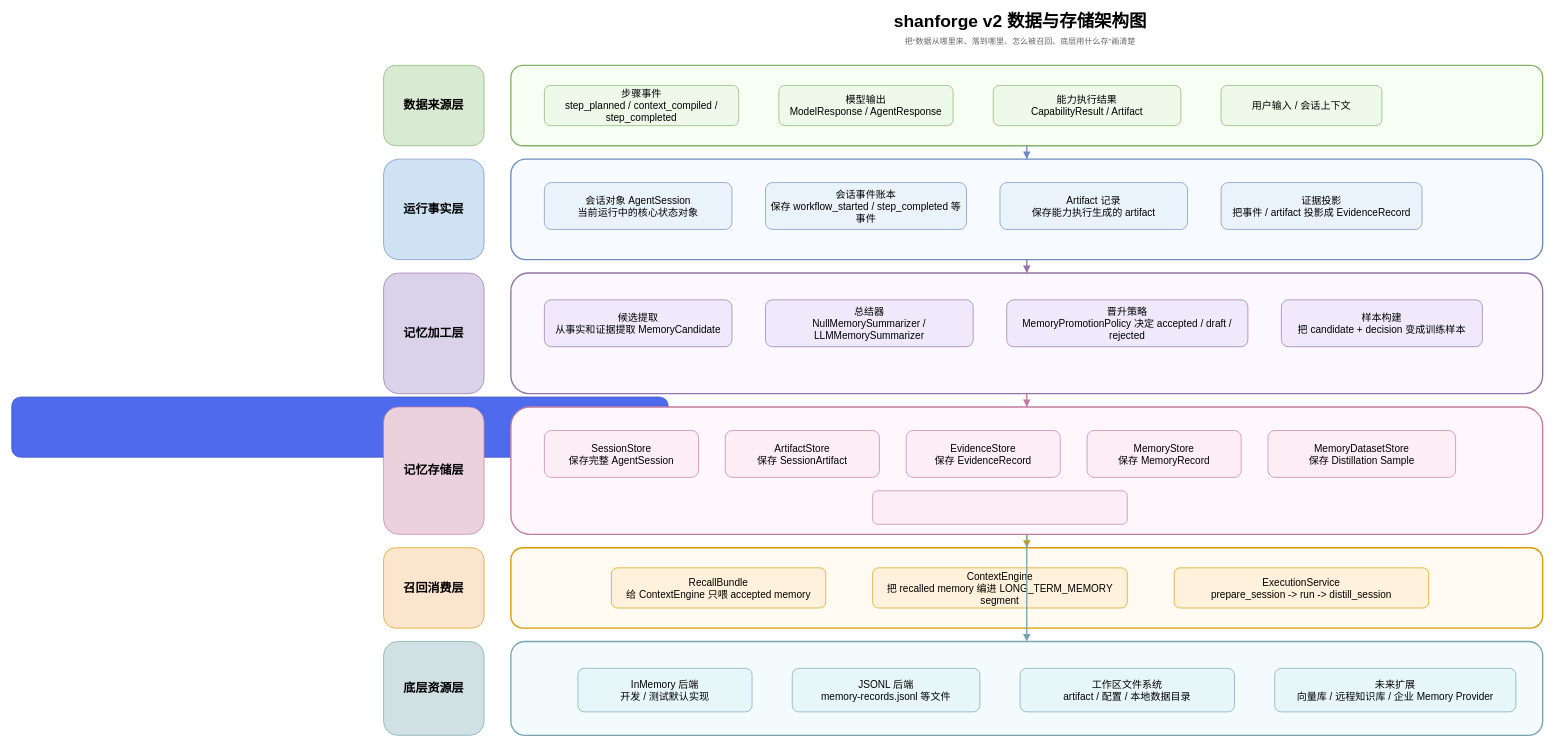
Some shapes in this 1555 by 748 pixel diagram are drawn without their labels. Each missing label, with the centre of its shape:
"Recall 索引视图 按 scope + status + confidence 过滤和排序" belongs at (999,507).
"数据分层" belongs at (339,426).
